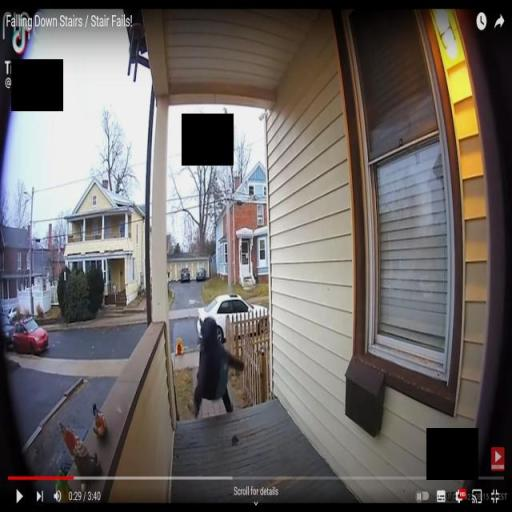Fall: (185, 310, 251, 424)
